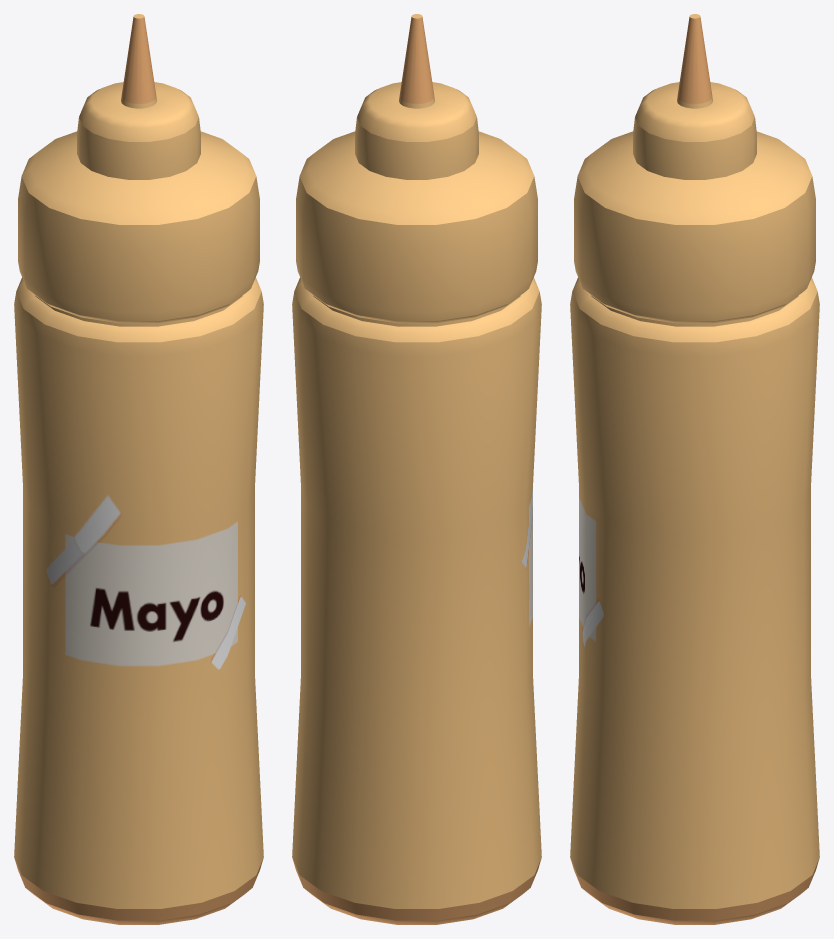
The model's file is Mayonaise.fbx.
3 views of the same model, side by side, from view 1: azimuth 30°, elevation 25°; view 2: azimuth 150°, elevation 25°; view 3: azimuth 270°, elevation 25° (orthographic).
Visible parts, largest first — view 1: Mayonaise.Bottle; view 2: Mayonaise.Bottle; view 3: Mayonaise.Bottle.
Boxes of the visible parts, x1,y1,x2,y2 form: Mayonaise.Bottle: (14, 14, 263, 924); Mayonaise.Bottle: (292, 14, 541, 924); Mayonaise.Bottle: (570, 14, 819, 924).
Size of the model in its own units: 23.64 by 91.39 by 24.
